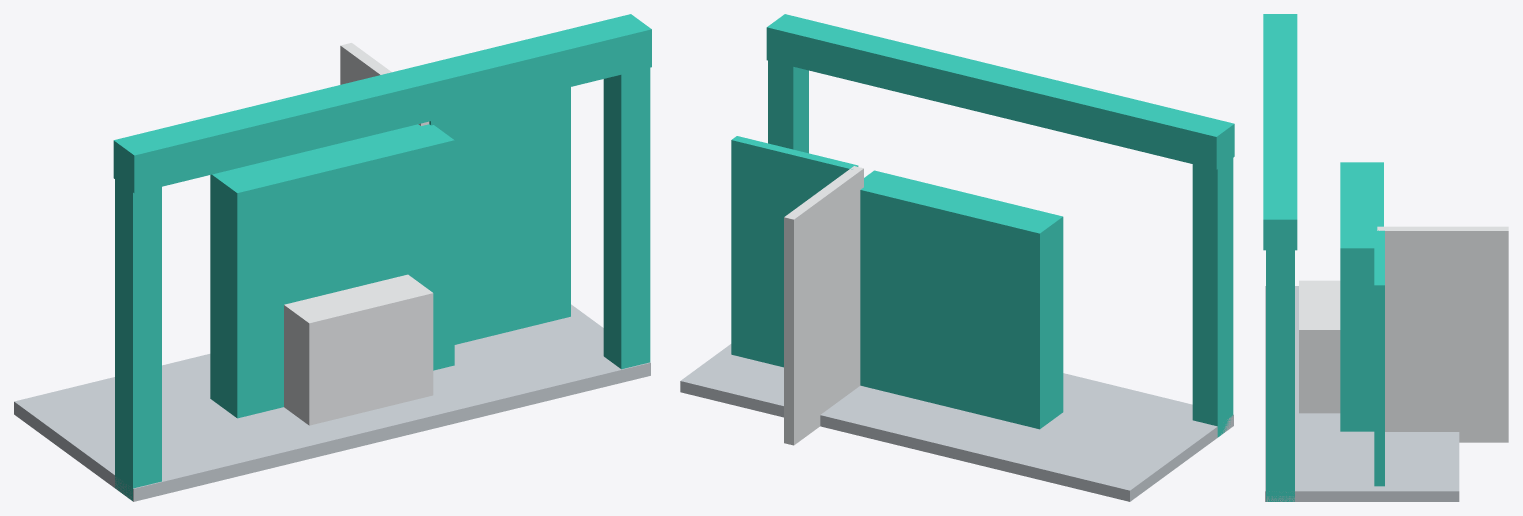
3 views of the same model, side by side, from view 1: azimuth 30°, elevation 25°; view 2: azimuth 150°, elevation 25°; view 3: azimuth 270°, elevation 25° (orthographic). The views are drawn at different scales.
Parts seen in each view (by area): view 1: Exhibition Booth Concept; view 2: Exhibition Booth Concept; view 3: Exhibition Booth Concept.
Part boxes in pixels (bbox=[...]): Exhibition Booth Concept: bbox=[14, 14, 651, 501]; Exhibition Booth Concept: bbox=[680, 14, 1234, 501]; Exhibition Booth Concept: bbox=[1263, 14, 1508, 501].
Size of the model in its own units: 5 by 3.2 by 2.52.
